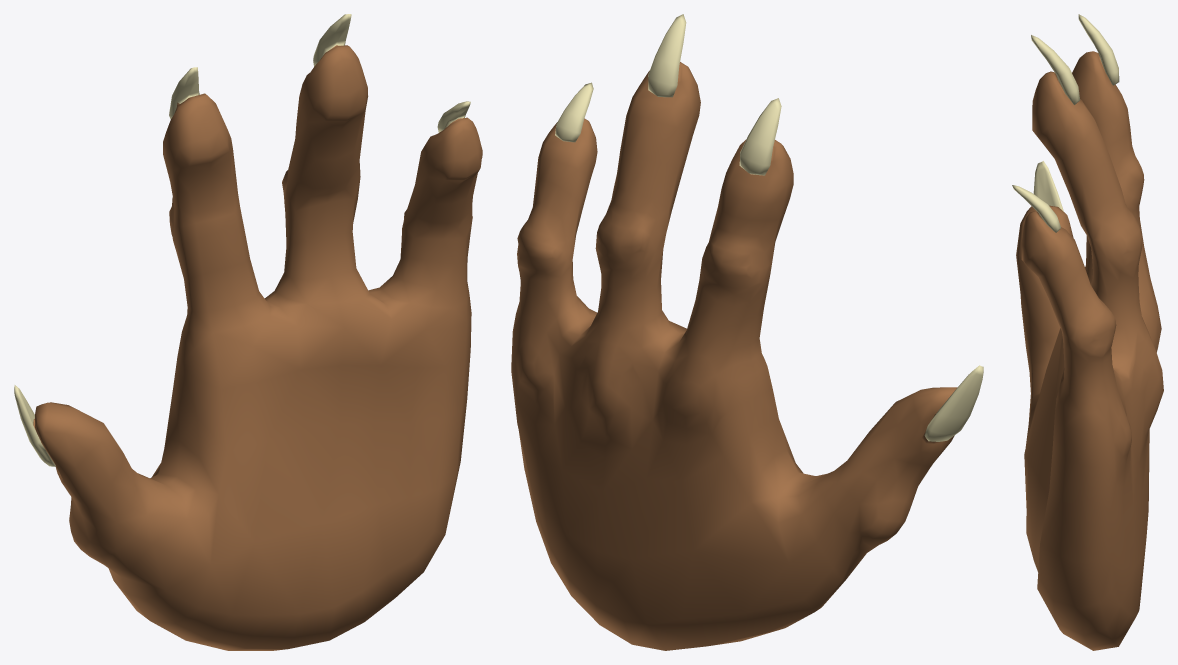
File: Handover.fbx
3 views of the same model, side by side, from view 1: azimuth 30°, elevation 25°; view 2: azimuth 150°, elevation 25°; view 3: azimuth 270°, elevation 25° (orthographic). The views are drawn at different scales.
Parts seen in each view (by area): view 1: Handover - gigas18 (Mr Fear); view 2: Handover - gigas18 (Mr Fear); view 3: Handover - gigas18 (Mr Fear).
Part boxes in pixels (x1,y1,x2,y2): Handover - gigas18 (Mr Fear): (14, 14, 482, 650); Handover - gigas18 (Mr Fear): (511, 14, 983, 650); Handover - gigas18 (Mr Fear): (1012, 14, 1163, 650).
Size of the model in its own units: 60.28 by 78.46 by 17.82.
